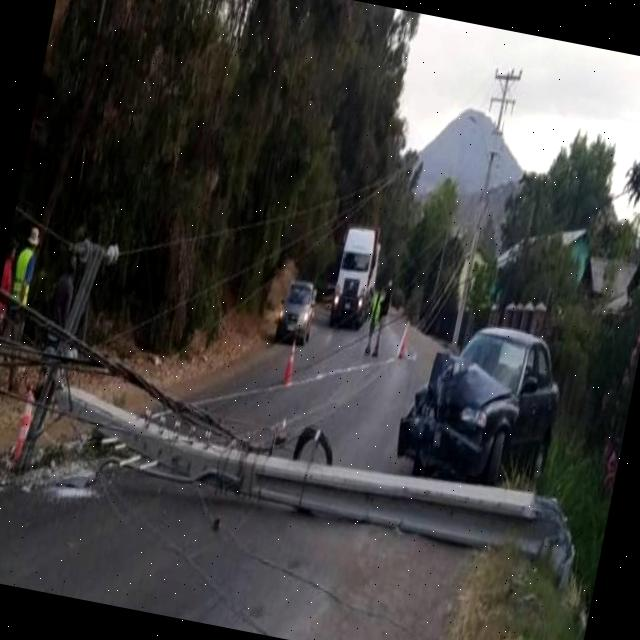Broken Pole: (8, 248, 578, 585)
